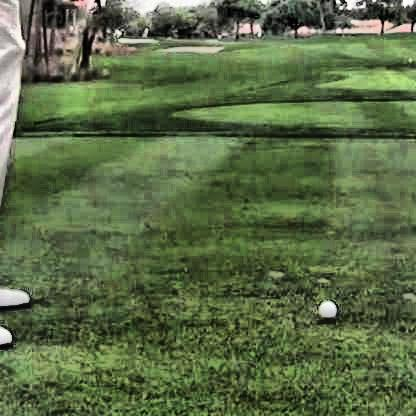golfball: (314, 298, 334, 318)
